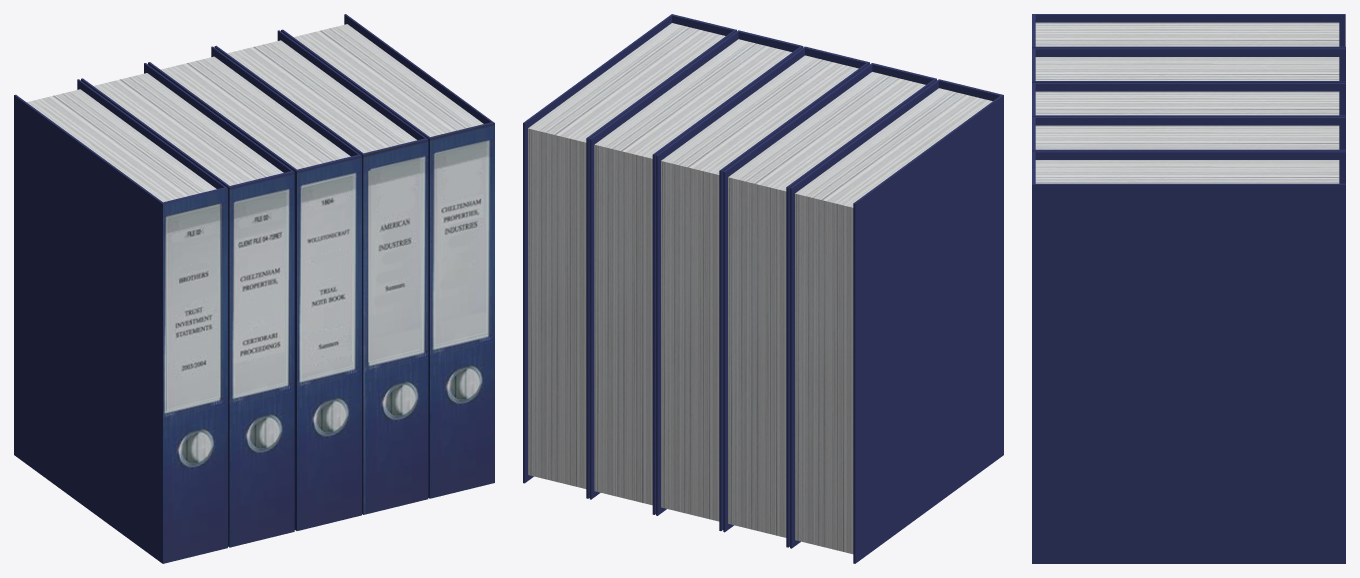
File: Files 3.FBX
3 renders of one model, left to right at view 1: azimuth 30°, elevation 25°; view 2: azimuth 150°, elevation 25°; view 3: azimuth 270°, elevation 25°, orthographic. The views are drawn at different scales.
Visible parts, largest first — view 1: File 1, File 3, File 2, File 4, File 5; view 2: File 1, File 3, File 2, File 4, File 5; view 3: File 5, File 1, File 2, File 4, File 3.
Boxes of the visible parts, <box> form: File 1: <box>14,79,227,563</box>; File 3: <box>148,46,361,530</box>; File 2: <box>81,63,294,547</box>; File 4: <box>214,30,428,514</box>; File 5: <box>281,14,494,498</box>; File 1: <box>790,79,1003,563</box>; File 3: <box>656,46,869,530</box>; File 2: <box>723,63,936,547</box>; File 4: <box>589,30,803,514</box>; File 5: <box>523,14,736,498</box>; File 5: <box>1032,151,1345,563</box>; File 1: <box>1032,14,1345,80</box>; File 2: <box>1032,48,1345,114</box>; File 4: <box>1032,117,1345,183</box>; File 3: <box>1032,83,1345,149</box>.
Bounding box in the file's own units: 33 × 34.2 × 25.64.
Materials: 1 (1 with a texture image).
